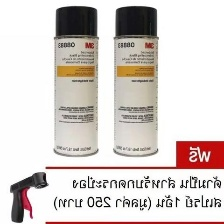aerosol_cans: (48, 2, 101, 159), (110, 3, 162, 160)
